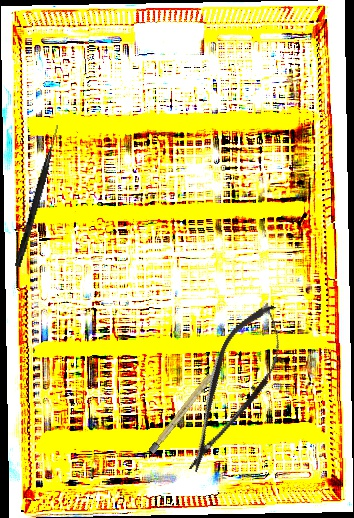Hook Surgical: (14, 123, 61, 269)
Micro Scissor: (167, 293, 300, 484)
Scalpel Handle: (148, 363, 222, 454)
